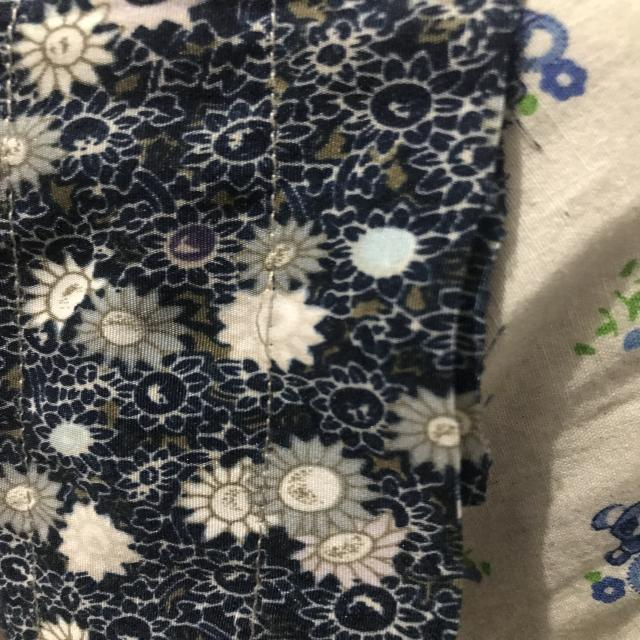skip: (227, 265, 304, 359)
